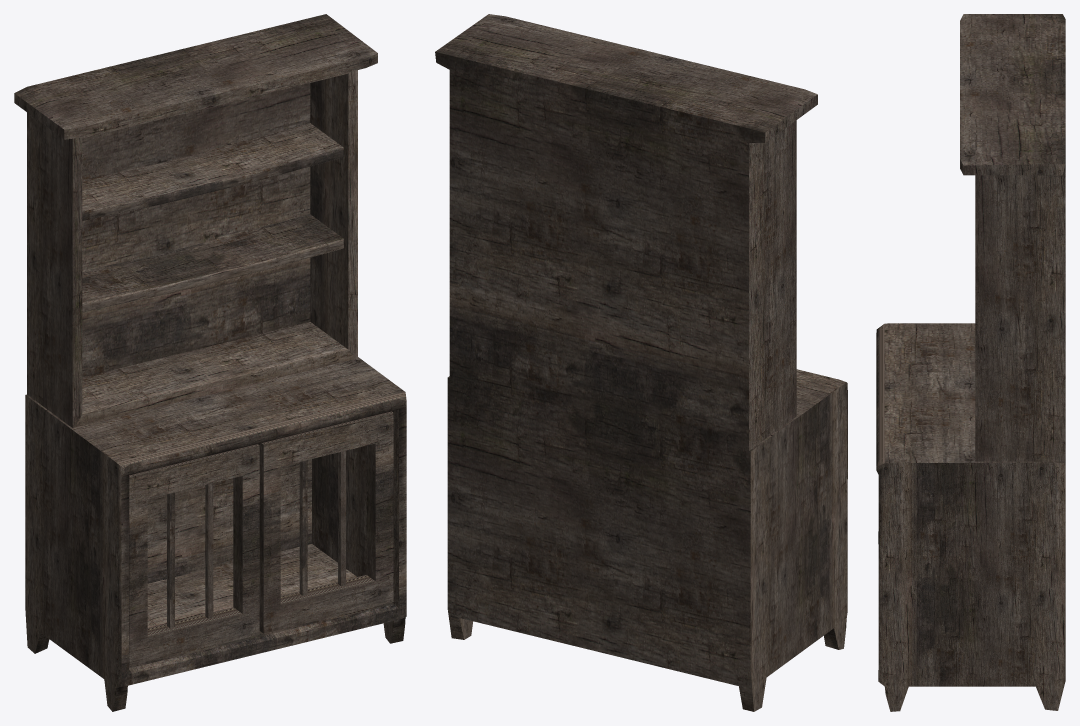
Rendered from SM_Dresser1Fix.fbx.
3 views of the same model, side by side, from view 1: azimuth 30°, elevation 25°; view 2: azimuth 150°, elevation 25°; view 3: azimuth 270°, elevation 25° (orthographic). The views are drawn at different scales.
Visible parts, largest first — view 1: SM_Dresser1Fix; view 2: SM_Dresser1Fix; view 3: SM_Dresser1Fix.
Part boxes in pixels (x1=…): SM_Dresser1Fix: x1=14, y1=14, x2=406, y2=711; SM_Dresser1Fix: x1=435, y1=14, x2=847, y2=711; SM_Dresser1Fix: x1=876, y1=14, x2=1065, y2=711.
Bounding box in the file's own units: 147 × 77.76 × 251.
1 material, 1 textured.
